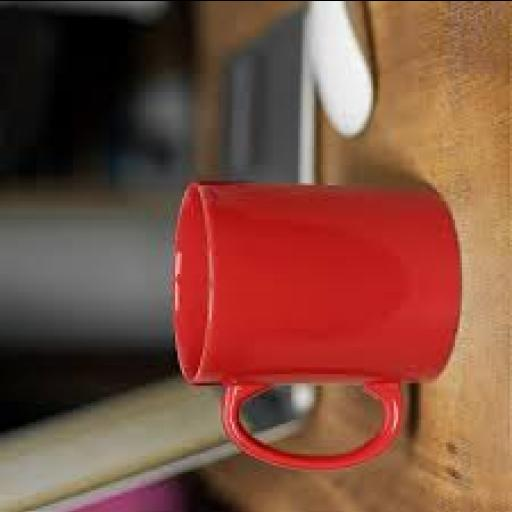red mug: (171, 182, 457, 466)
